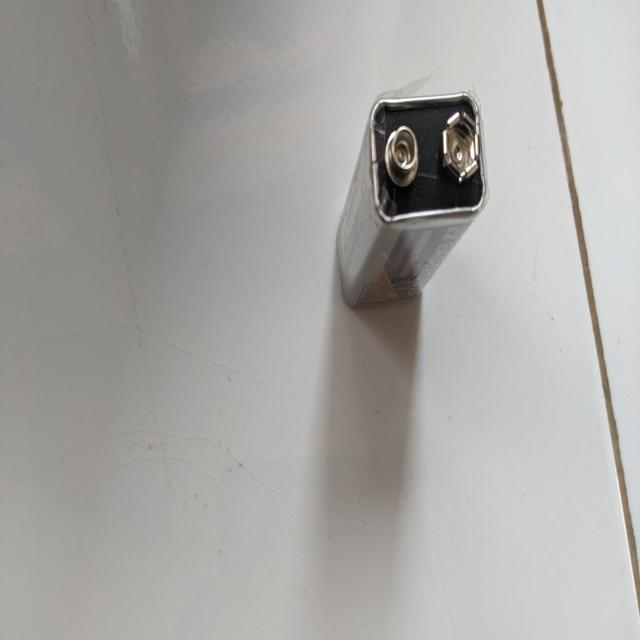Dry Cell: (320, 88, 490, 322)
